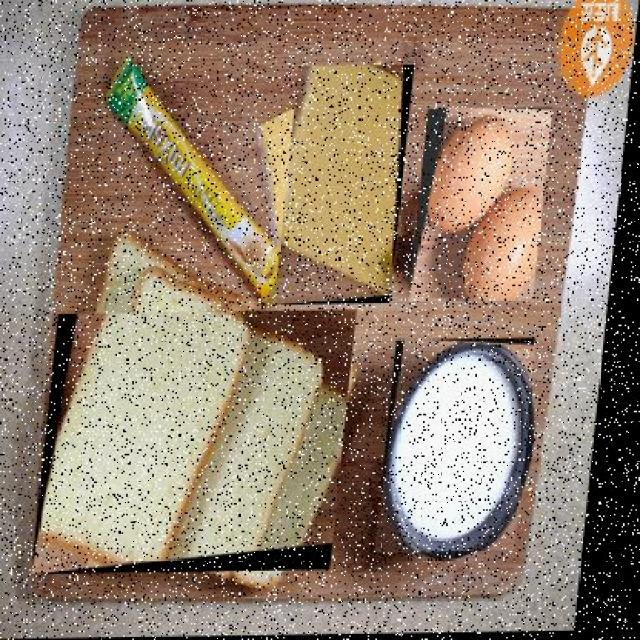Bread: (44, 309, 365, 574)
Cheese: (280, 64, 418, 305)
Egg: (415, 107, 557, 302)
Milk: (388, 338, 546, 553)
